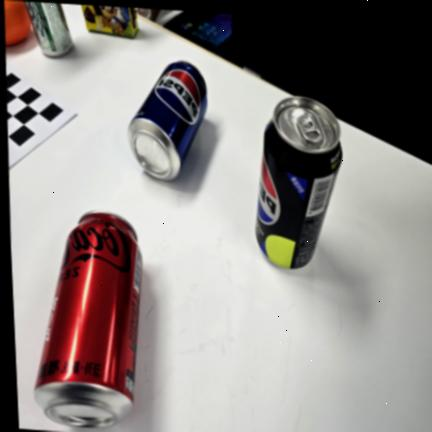can_coke_zero: (34, 210, 142, 427)
can_pepsi: (127, 60, 207, 180)
can_pepsi_zero: (255, 96, 342, 268)
